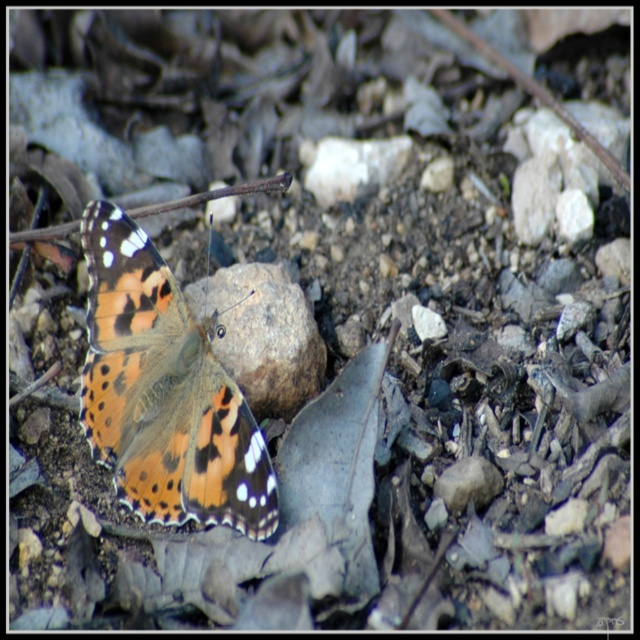Butterfly: (69, 170, 286, 553)
